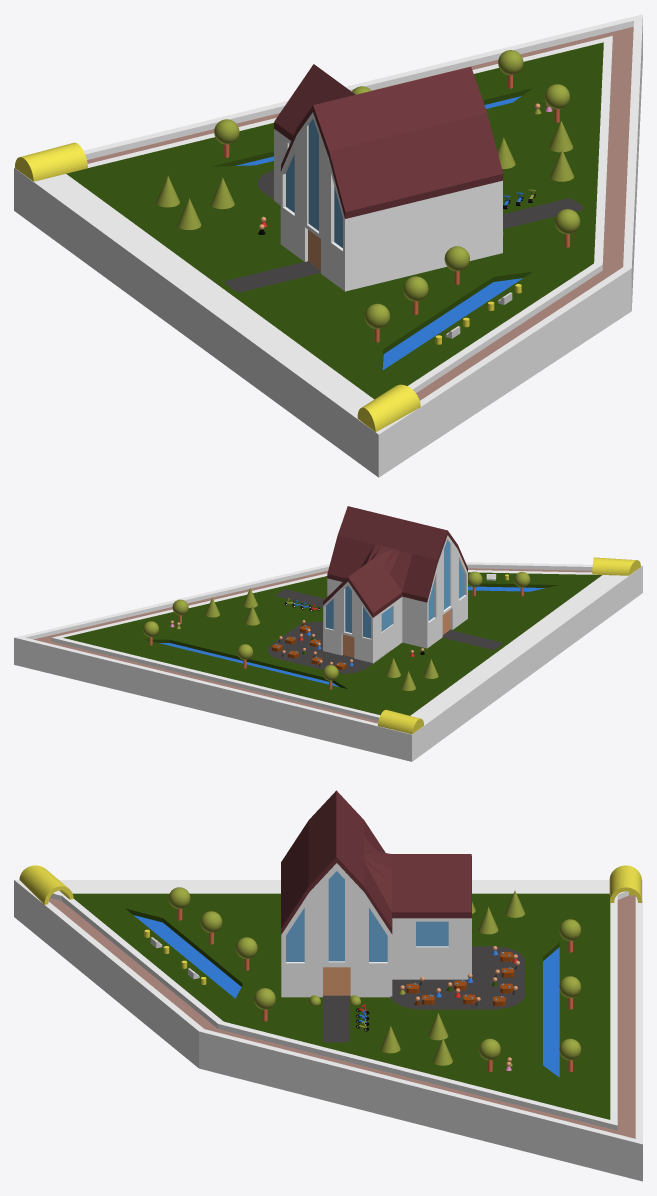
The model's file is island4.glb.
3 renders of one model, top to bottom at view 1: azimuth 30°, elevation 25°; view 2: azimuth 150°, elevation 25°; view 3: azimuth 270°, elevation 25°, orthographic. The views are drawn at different scales.
Parts seen in each view (by area): view 1: island richtingen, Cube, Cylinder.046, Cylinder.047, Plane.022, Plane.019; view 2: island richtingen, Cube, Plane.001, Cylinder.047, Cylinder.046, Plane.022, Plane.019; view 3: island richtingen, Cube, Plane.001, Plane.019, Cylinder.047, Cylinder.046.
Boxes of the visible parts, box(x1,y1,x2,y2) form: island richtingen: box(14, 14, 642, 477); Cube: box(274, 64, 503, 291); Cylinder.046: box(15, 142, 87, 181); Cylinder.047: box(357, 384, 420, 432); Plane.022: box(224, 261, 320, 292); Plane.019: box(503, 198, 584, 229); island richtingen: box(14, 562, 642, 761); Cube: box(323, 506, 467, 663); Plane.001: box(268, 622, 390, 673); Cylinder.047: box(592, 557, 640, 575); Cylinder.046: box(377, 709, 423, 734); Plane.022: box(442, 630, 502, 649); Plane.019: box(276, 589, 324, 607); island richtingen: box(14, 880, 642, 1181); Cube: box(281, 790, 471, 997); Plane.001: box(390, 946, 524, 1009); Plane.019: box(323, 995, 349, 1042); Cylinder.047: box(19, 865, 73, 904); Cylinder.046: box(609, 865, 642, 902).
Size of the model in its own units: 7 by 2.19 by 7.02.
